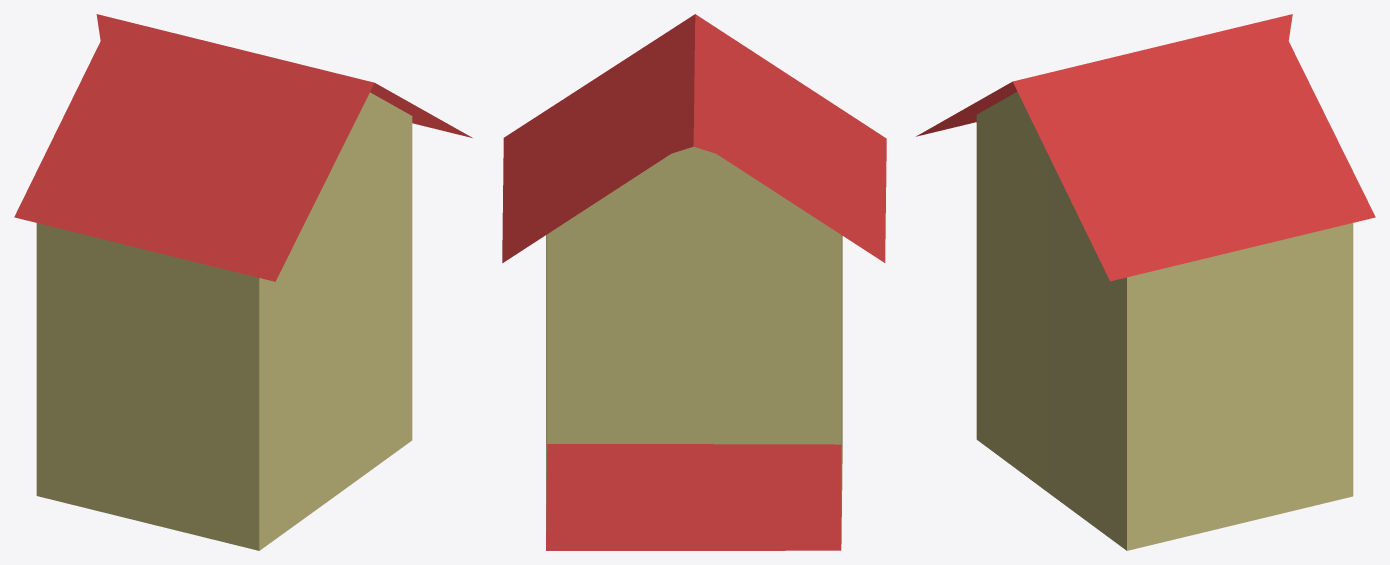
3 renders of one model, left to right at view 1: azimuth 30°, elevation 25°; view 2: azimuth 150°, elevation 25°; view 3: azimuth 270°, elevation 25°, orthographic. The views are drawn at different scales.
Bounding box in the file's own units: 8.2 × 7.68 × 7.78.
